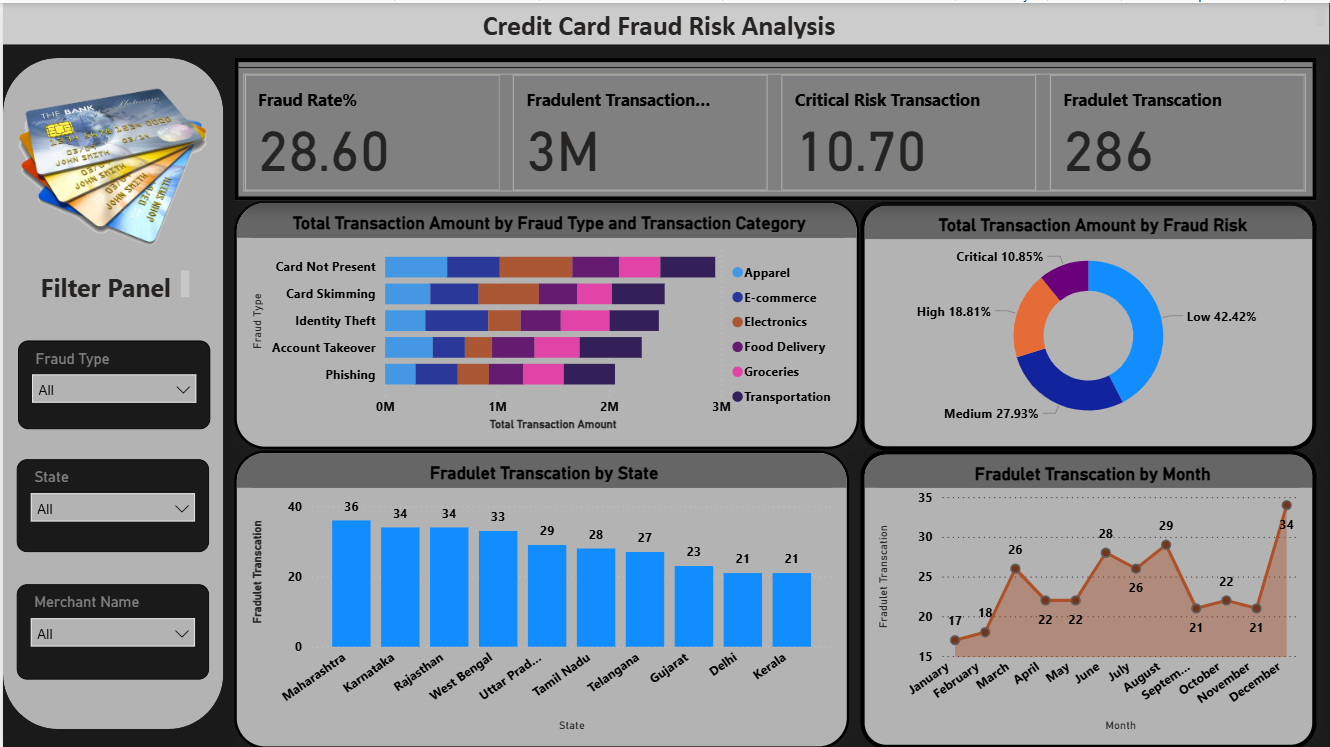

This screenshot's page, from the dashboard's own definition file:
{"tool":"powerbi","page":{"name":"Page 1","canvas":[1280,720],"ordinal":0},"visuals":[{"type":"textbox","box":[0,0,1280.3,39.8],"z":0},{"type":"shape","box":[0,53.5,212.7,647.7],"z":1000},{"type":"textbox","box":[27.7,253.4,156.8,38.6],"z":2000},{"type":"barChart","fields":{"Y":["Credit Card Fraud Risk Analysis.Total Transaction Amount"],"Category":["Credit Card Fraud Risk Analysis.Fraud Type"],"Series":["Credit Card Fraud Risk Analysis.Transaction Category"]},"box":[222.9,190.9,603.2,239.6],"z":3000},{"type":"donutChart","fields":{"Y":["Credit Card Fraud Risk Analysis.Total Transaction Amount"],"Category":["Credit Card Fraud Risk Analysis.Fraud Risk"]},"box":[827.5,192.3,440.2,239.6],"z":4000},{"type":"columnChart","fields":{"Category":["Credit Card Fraud Risk Analysis.State"],"Y":["Credit Card Fraud Risk Analysis.Fradulet Transcation"]},"box":[222.9,431.9,593.5,288.4],"z":5000},{"type":"lineChart","fields":{"Y":["Credit Card Fraud Risk Analysis.Fradulet Transcation"],"Category":["Credit Card Fraud Risk Analysis.Transaction Date.Variation.Date Hierarchy.Month"]},"box":[827.5,431.9,440.2,288.4],"z":6000},{"type":"slicer","fields":{"Values":["Credit Card Fraud Risk Analysis.Fraud Type"]},"box":[14.5,325.7,185.8,85.7],"z":7000},{"type":"slicer","fields":{"Values":["Credit Card Fraud Risk Analysis.State"]},"box":[13.3,440.4,185.8,89.3],"z":8000},{"type":"slicer","fields":{"Values":["Credit Card Fraud Risk Analysis.Merchant Name"]},"box":[13.3,561,185.8,91.7],"z":8001},{"type":"image","box":[0,53.1,212.3,212.3],"z":8002},{"type":"cardVisual","fields":{"Data":["Credit Card Fraud Risk Analysis.Fraud Rate%","Credit Card Fraud Risk Analysis.Fradulent Transaction Amount","Credit Card Fraud Risk Analysis.Critical Risk Transaction","Credit Card Fraud Risk Analysis.Fradulet Transcation"]},"box":[222.9,52.9,1044.8,137.9],"z":8003}]}

Visuals, with their boxes in screenshot pixels (x1, y1, x2, y2), scaled from the page's 1280x720 canvas onto the 1330x747 screenshot:
textbox: box(0, 0, 1329, 41)
shape: box(0, 56, 221, 727)
textbox: box(29, 263, 192, 303)
barChart - Credit Card Fraud Risk Analysis.Total Transaction Amount x Credit Card Fraud Risk Analysis.Fraud Type: box(232, 198, 858, 447)
donutChart - Credit Card Fraud Risk Analysis.Total Transaction Amount x Credit Card Fraud Risk Analysis.Fraud Risk: box(860, 200, 1317, 448)
columnChart - Credit Card Fraud Risk Analysis.State x Credit Card Fraud Risk Analysis.Fradulet Transcation: box(232, 448, 848, 746)
lineChart - Credit Card Fraud Risk Analysis.Fradulet Transcation x Credit Card Fraud Risk Analysis.Transaction Date.Variation.Date Hierarchy.Month: box(860, 448, 1317, 746)
slicer - Credit Card Fraud Risk Analysis.Fraud Type: box(15, 338, 208, 427)
slicer - Credit Card Fraud Risk Analysis.State: box(14, 457, 207, 550)
slicer - Credit Card Fraud Risk Analysis.Merchant Name: box(14, 582, 207, 677)
image: box(0, 55, 221, 275)
cardVisual - Credit Card Fraud Risk Analysis.Fraud Rate% x Credit Card Fraud Risk Analysis.Fradulent Transaction Amount: box(232, 55, 1317, 198)
